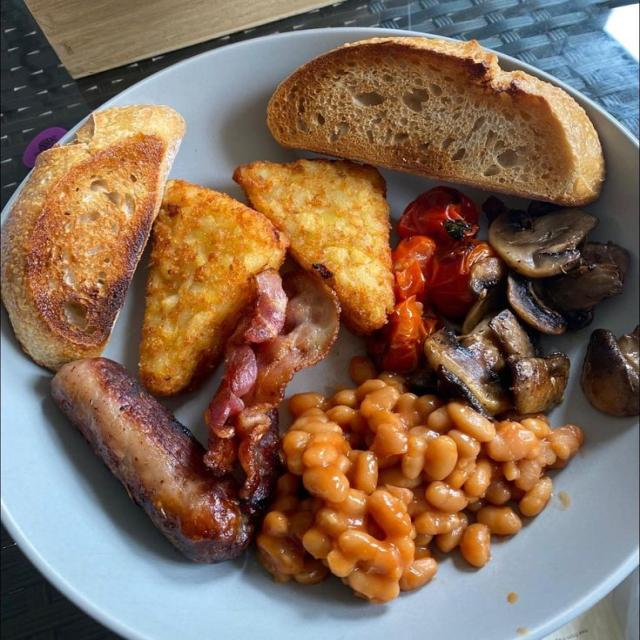toast bread: (268, 38, 604, 206), (1, 106, 184, 370), (140, 181, 288, 395), (233, 159, 394, 334)
